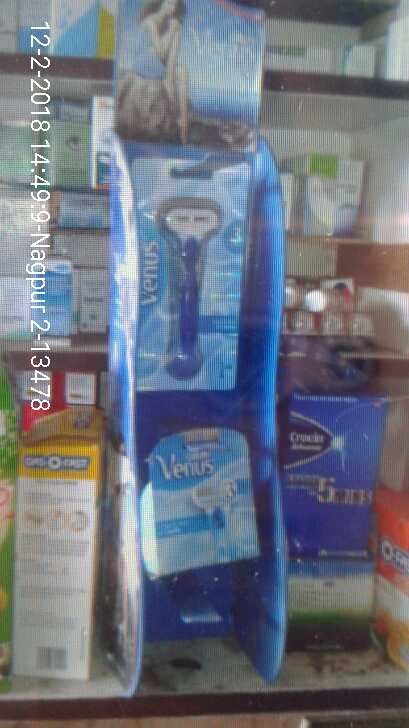venus: (133, 156, 247, 394), (140, 424, 265, 571)
